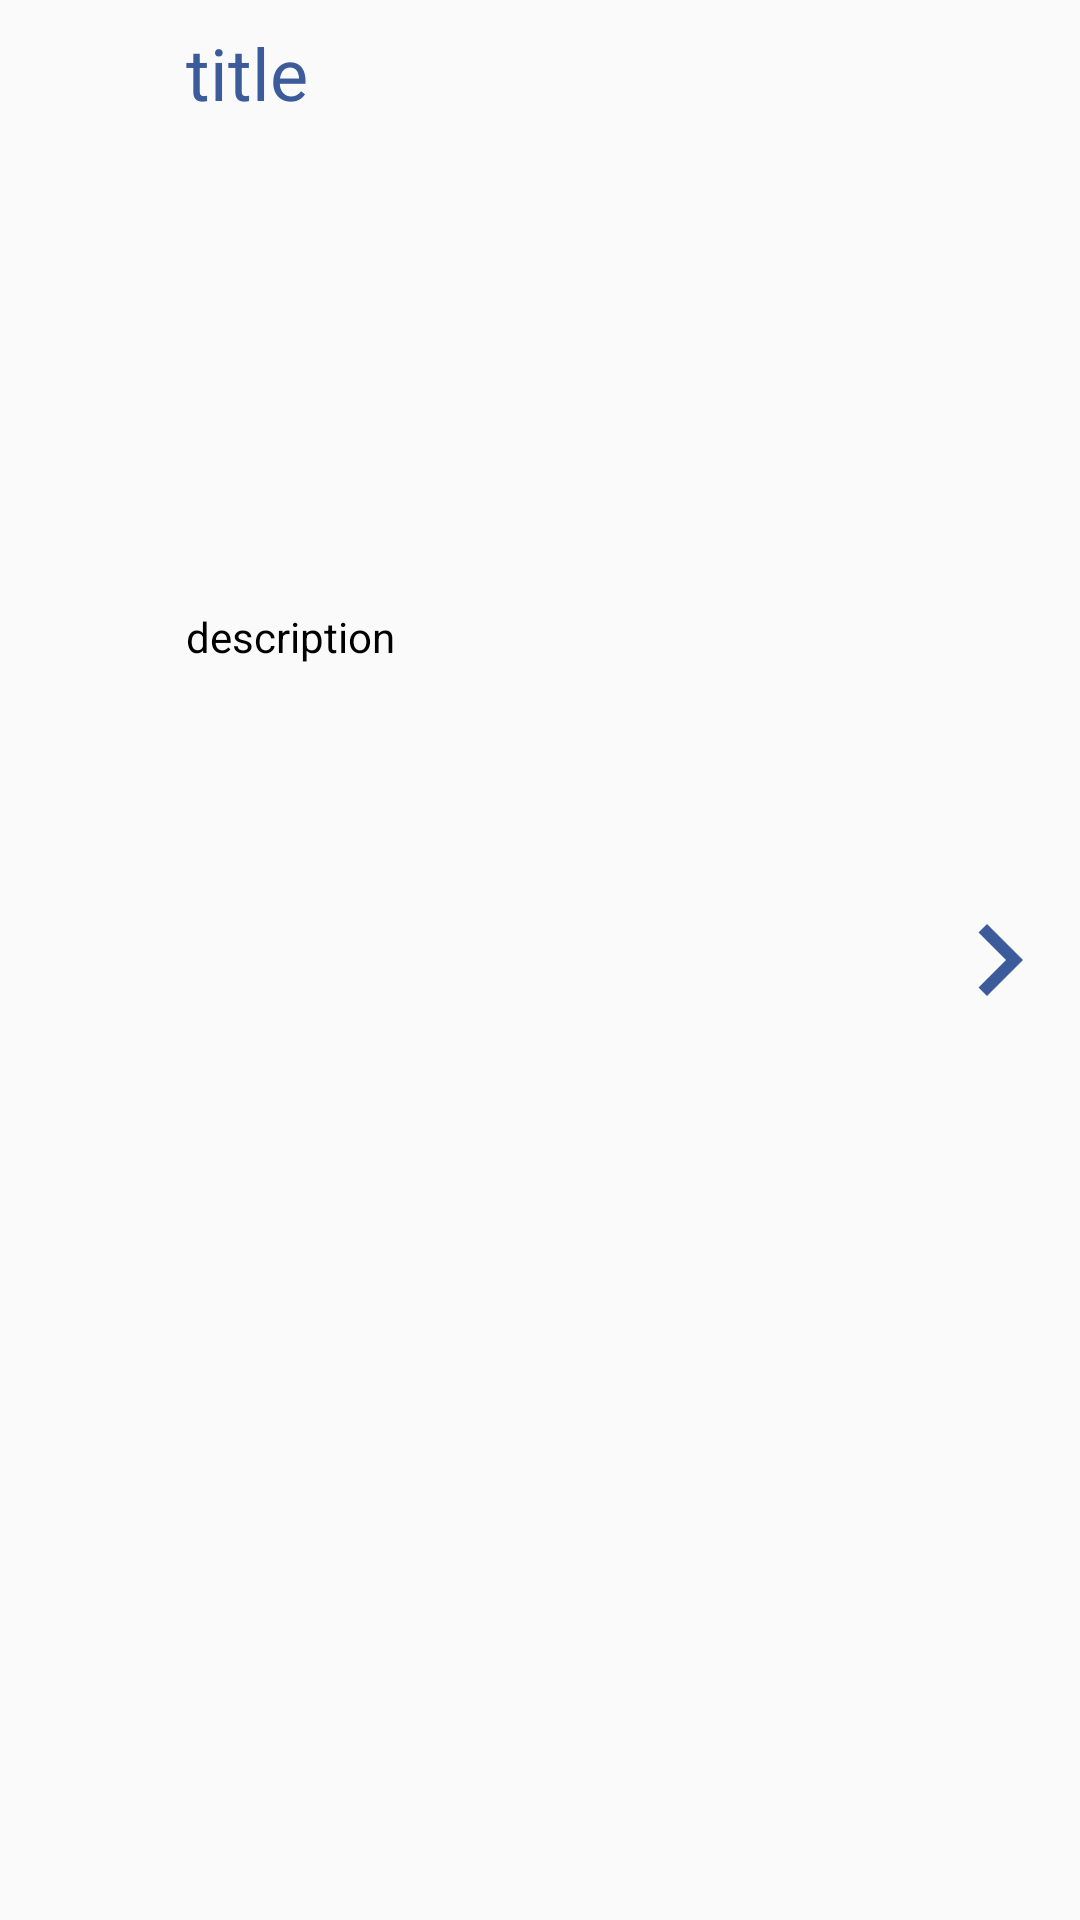

Icon click points for this 1080×1920 phone screenshot, format point (x, y):
keyboard arrow right: point (1000, 960)
